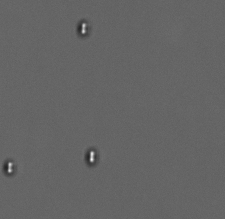Living Cell: (84, 147, 100, 166), (75, 19, 91, 36), (3, 159, 17, 176)
